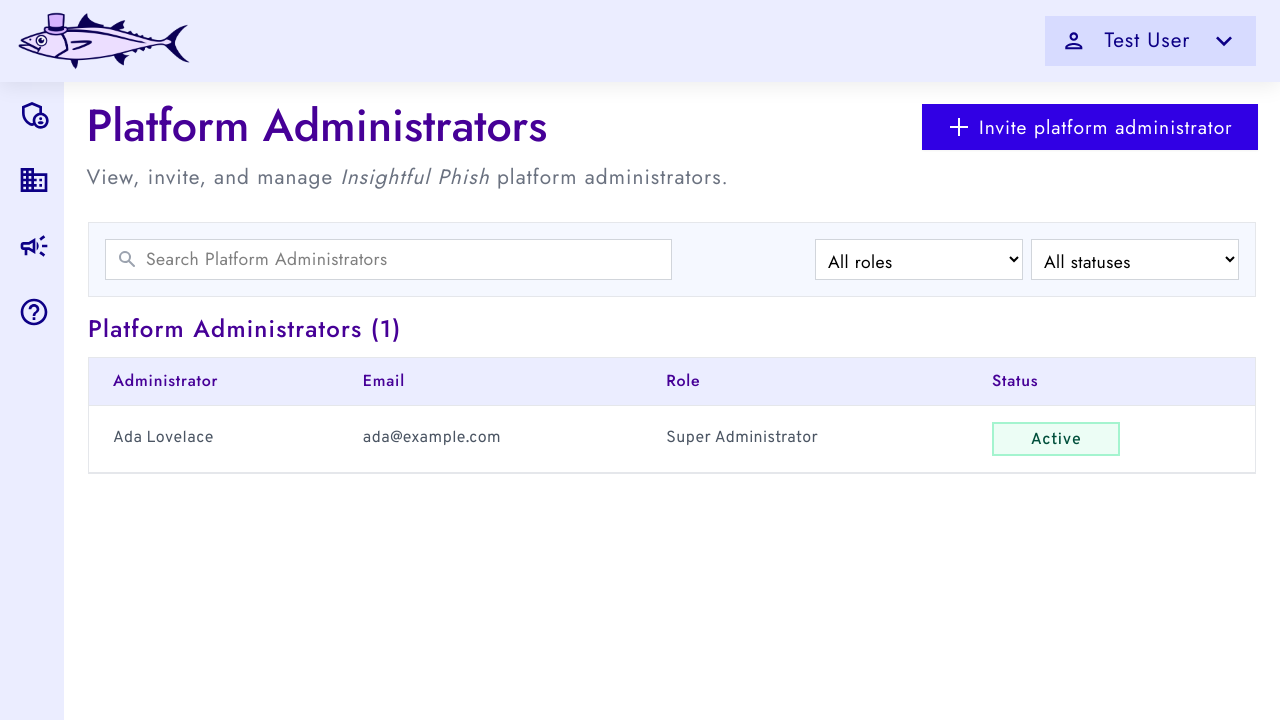
Scenario: PlatformAdministratorsPage › preserves values and resubmits an explicitly confirmed upgrade
The width and height of the screenshot is (1280, 720).
Check: the text "Ada Lovelace" is shown, box [113,428,214,448]
Click the button "Invite platform administrator". click: (1090, 127)
box: [922,104,1258,150]
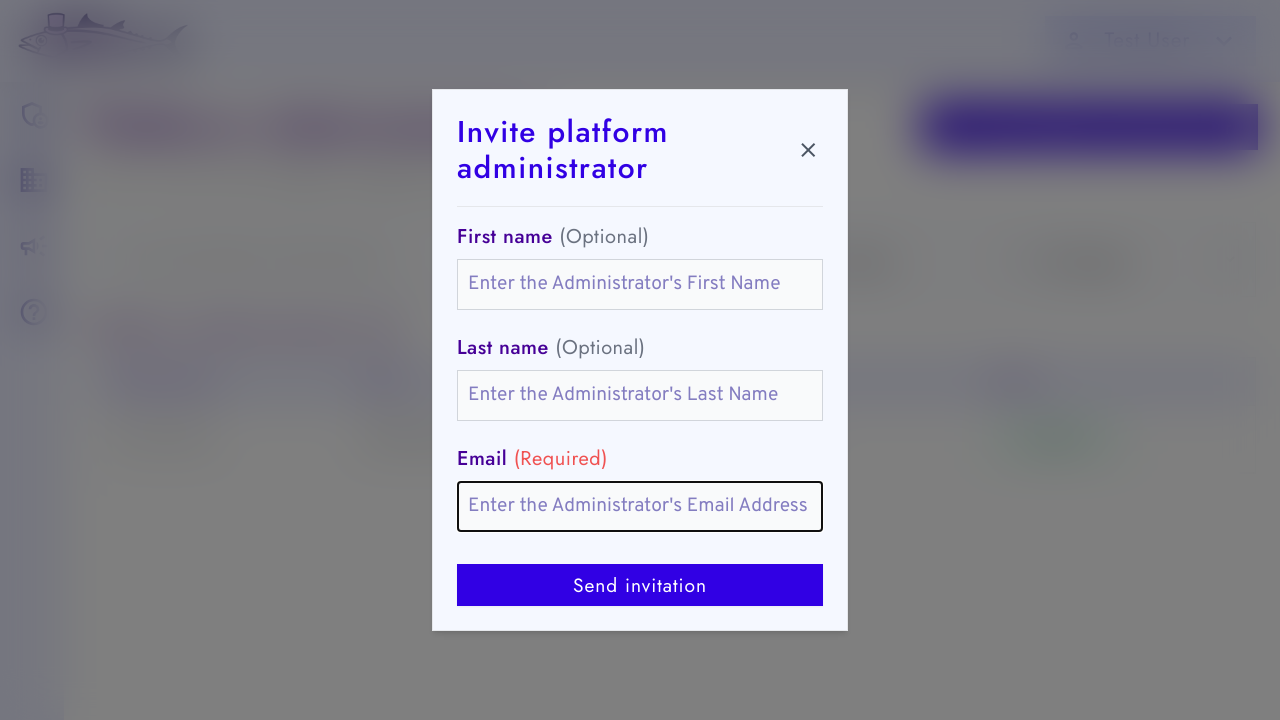
Type "trainee@example.com" into the field labelled "Email (Required)". click: (640, 506)
box: [457,481,823,532]
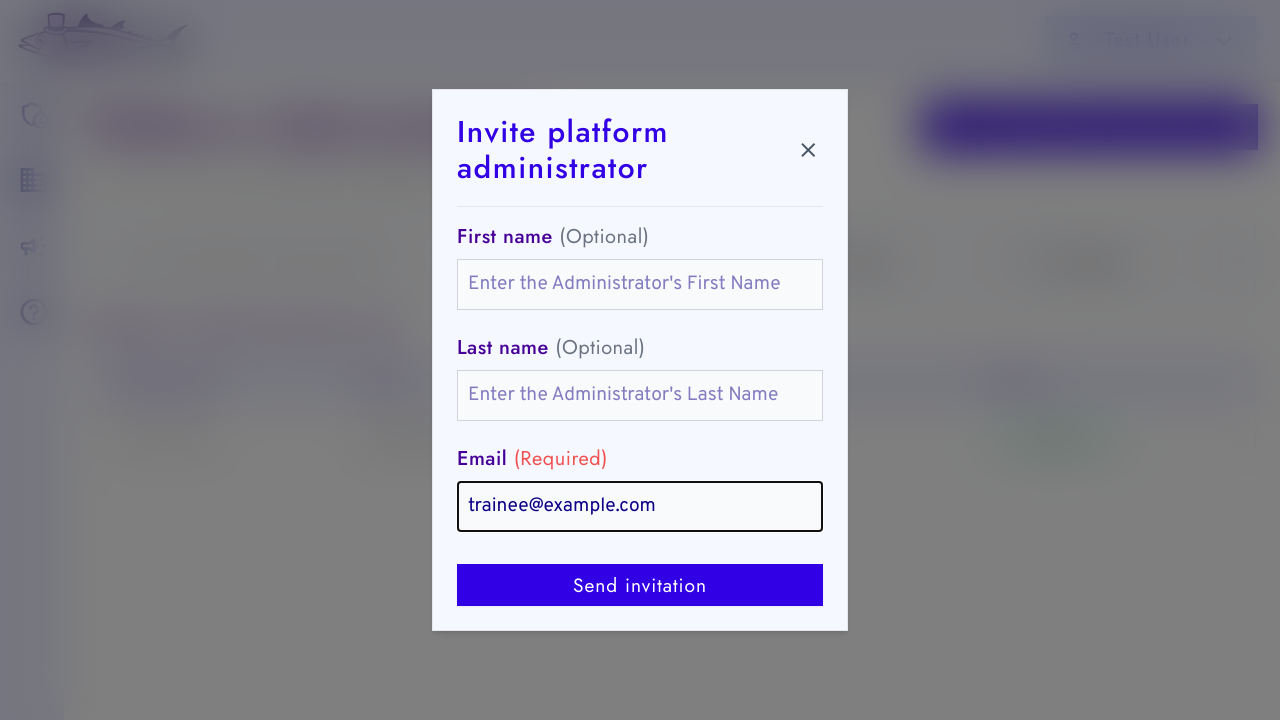
Type "Existing" into the field labelled "First name (Optional)". click: (640, 285)
box: [457,259,823,310]
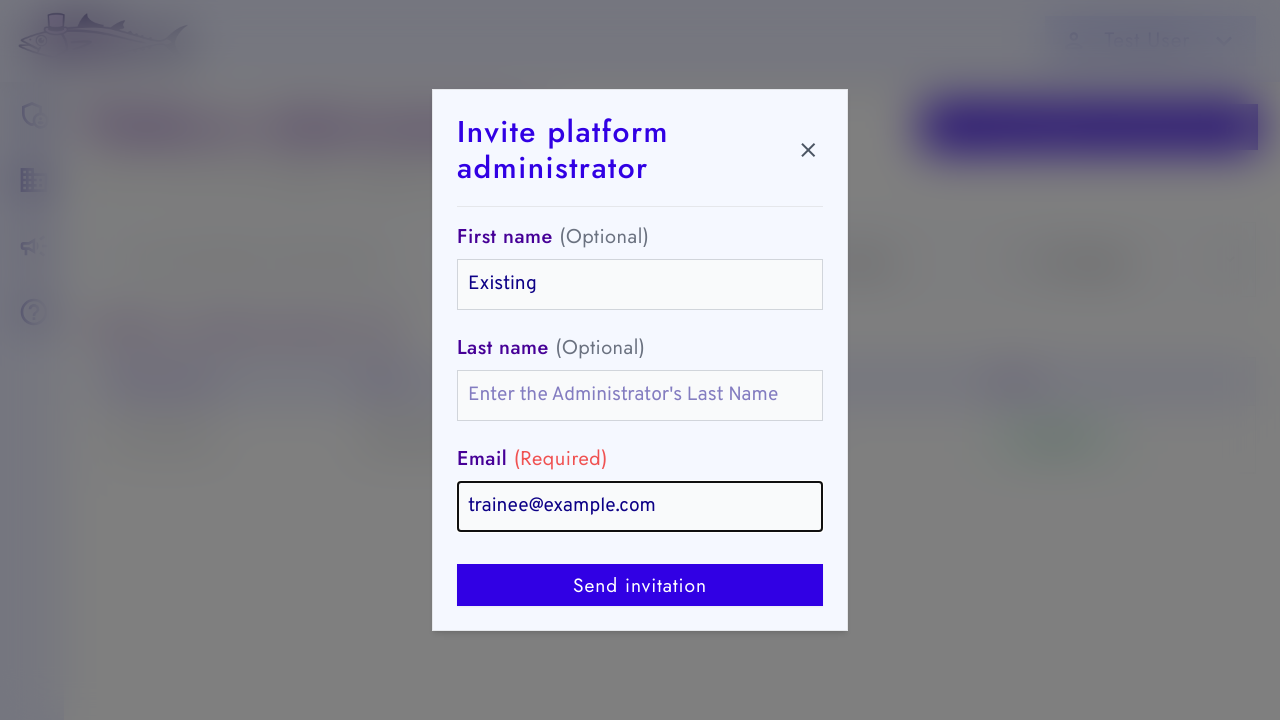
Type "Trainee" into the field labelled "Last name (Optional)". click: (640, 396)
box: [457,370,823,421]
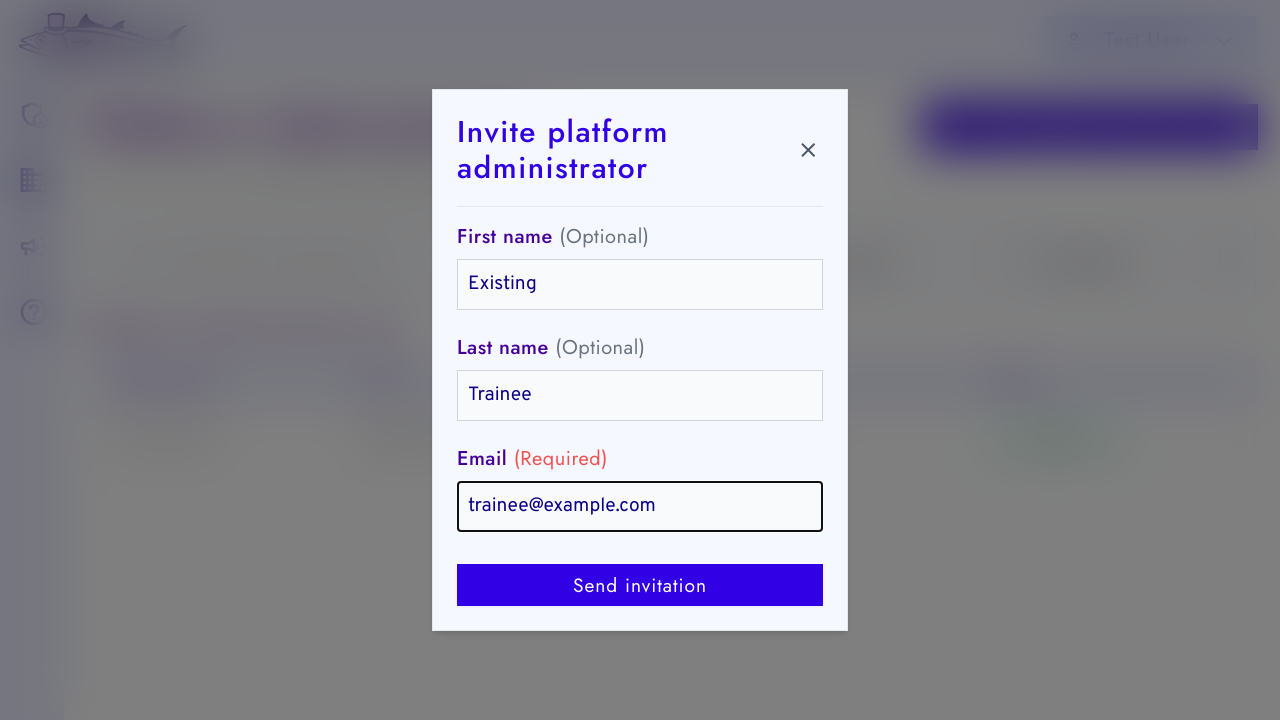
Click the button "Send invitation". click: (640, 585)
box: [457,564,823,606]
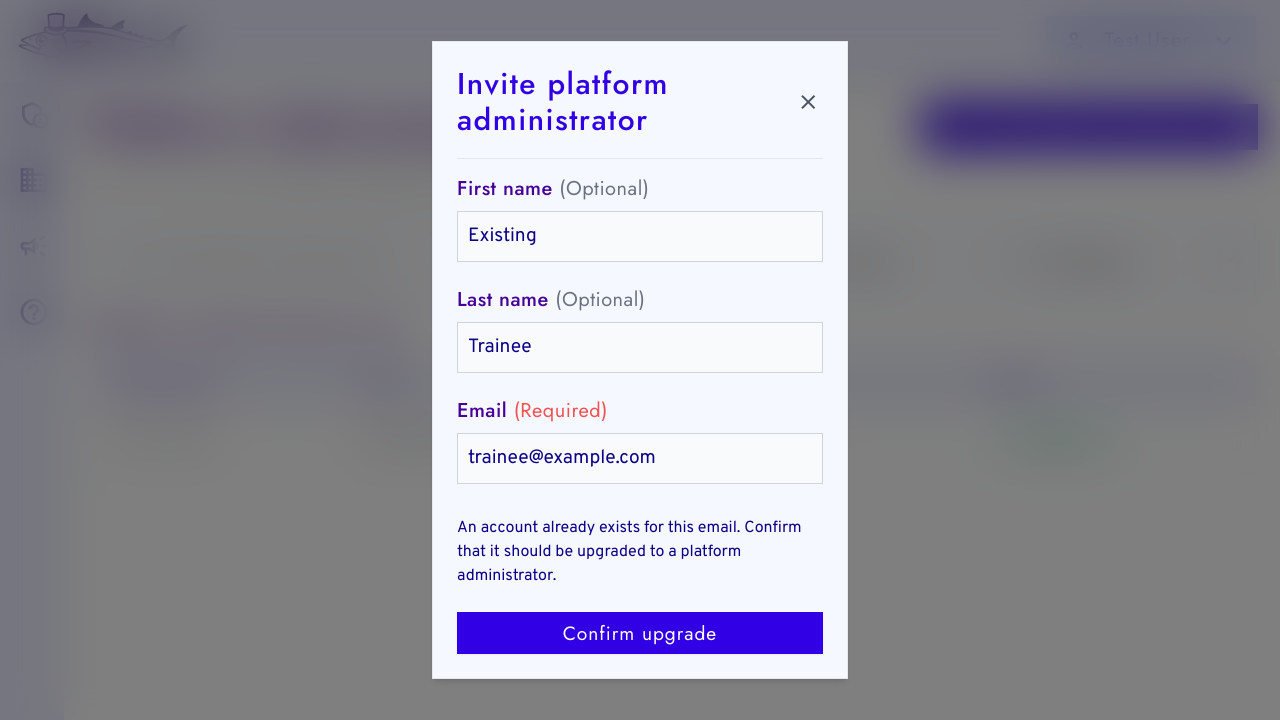
Check: the text "An account already exists for this email. Confirm that it should be upgraded to a platform administrator." is shown, box [457,518,802,586]
Click the button "Confirm upgrade". click: (640, 633)
box: [457,612,823,654]
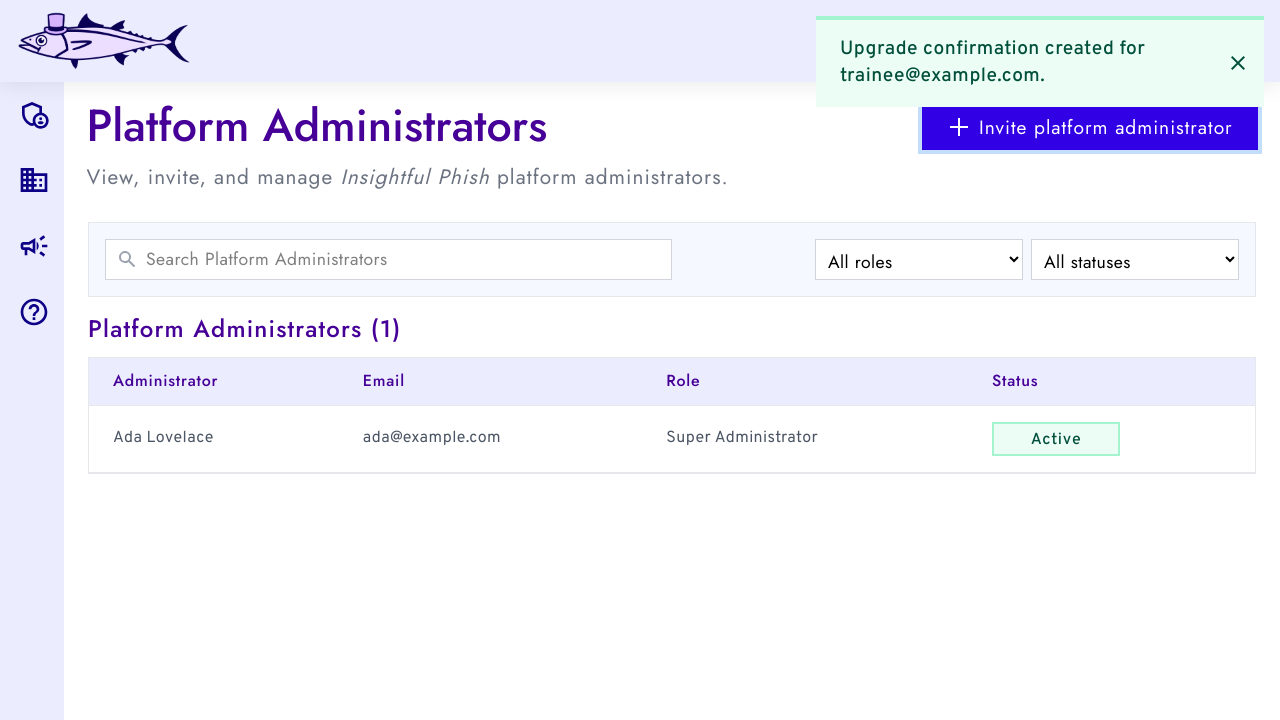
Check: the text "Upgrade confirmation created for trainee@example.com." is shown, box [840,37,1145,88]
